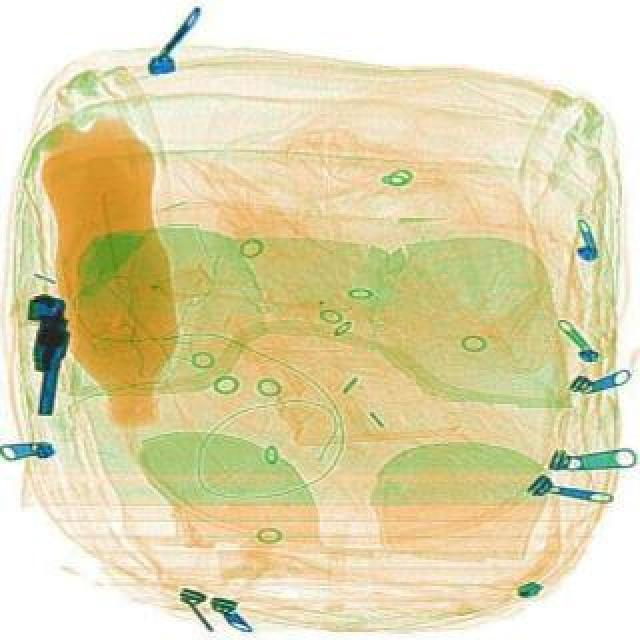gun: (28, 294, 68, 414)
